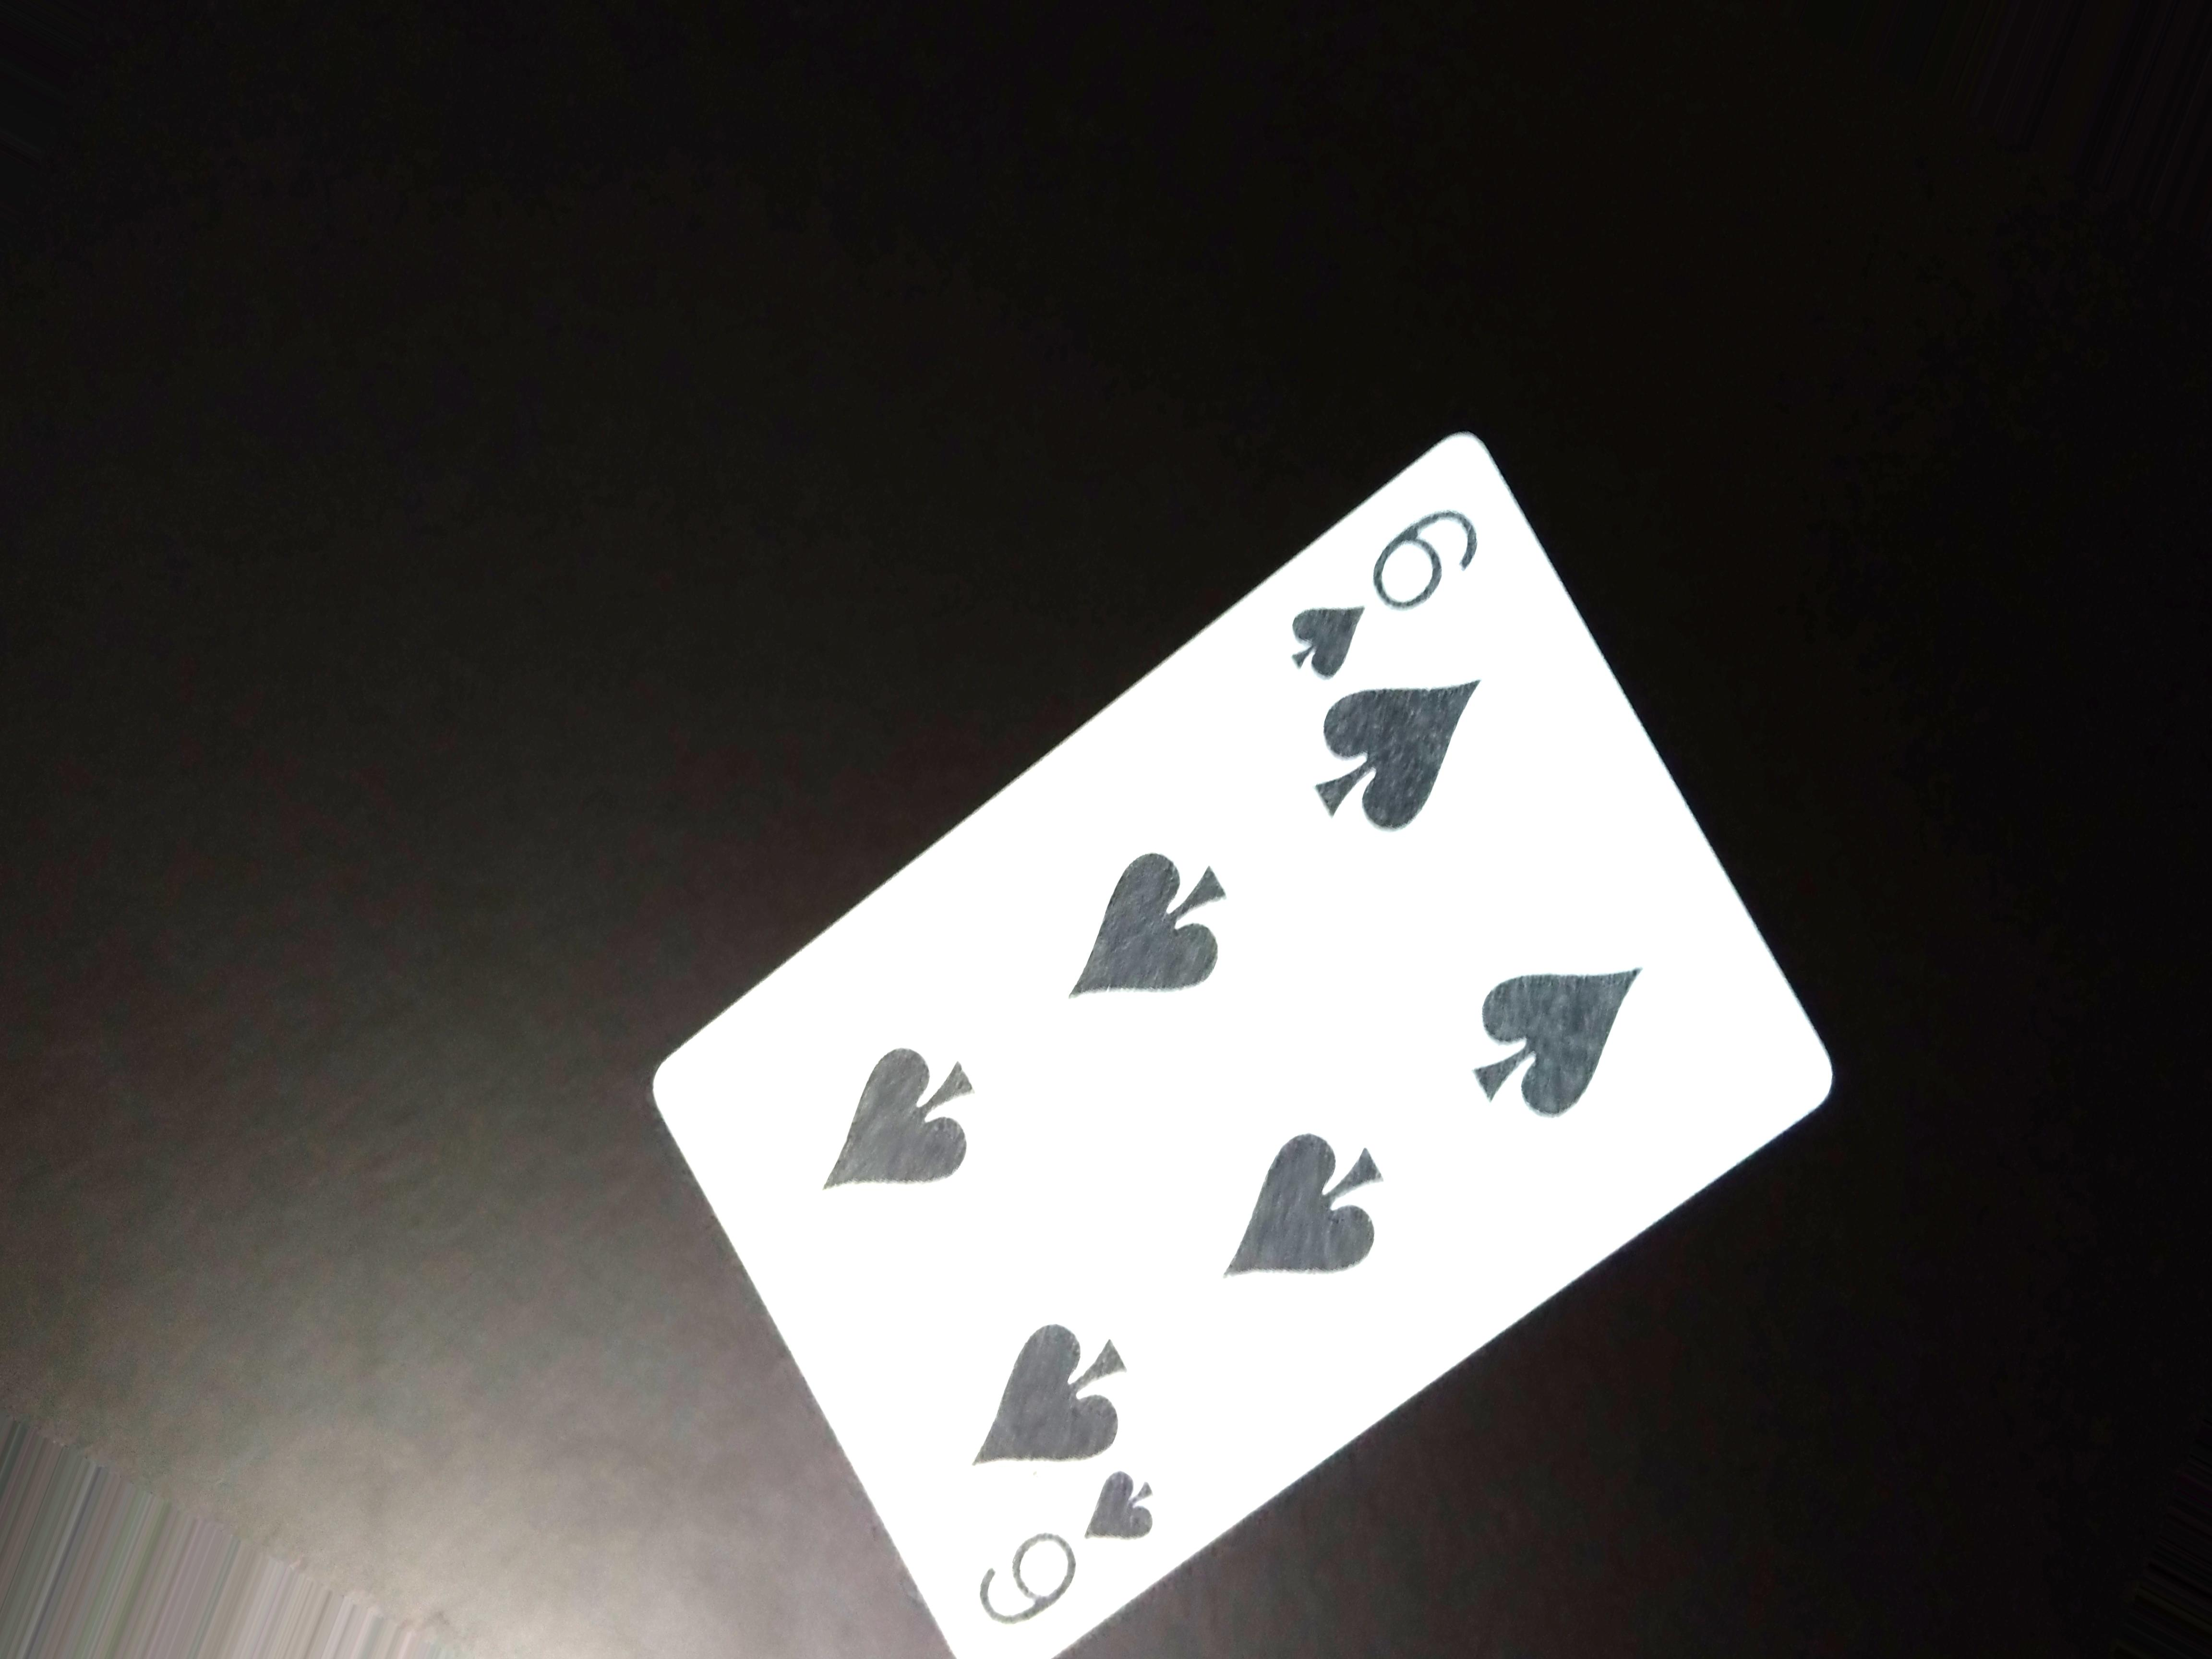6S: (1278, 488, 1491, 683)
